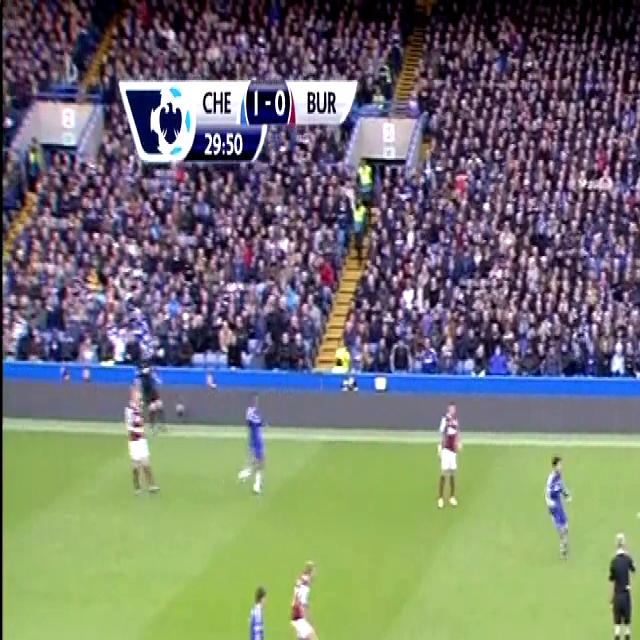referee: (599, 521, 640, 640), (128, 340, 162, 432)
soccer-player: (120, 388, 163, 503), (539, 442, 578, 566), (433, 388, 469, 519), (237, 384, 274, 504), (284, 546, 328, 640), (241, 570, 280, 640), (633, 466, 640, 576)
